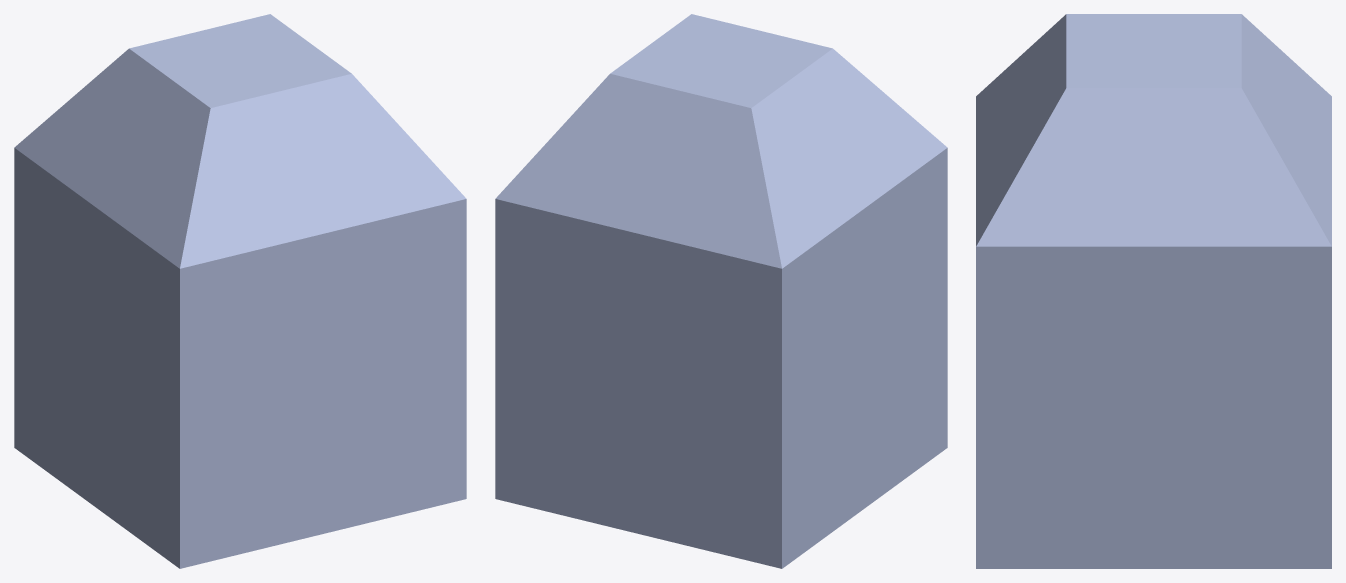
3 renders of one model, left to right at view 1: azimuth 30°, elevation 25°; view 2: azimuth 150°, elevation 25°; view 3: azimuth 270°, elevation 25°, orthographic. The views are drawn at different scales.
Visible parts, largest first — view 1: Cube; view 2: Cube; view 3: Cube.
Part boxes in pixels (x1=…): Cube: x1=14, y1=14, x2=466, y2=568; Cube: x1=495, y1=14, x2=947, y2=568; Cube: x1=976, y1=14, x2=1331, y2=568.
Size of the model in its own units: 2 by 2.75 by 2.
